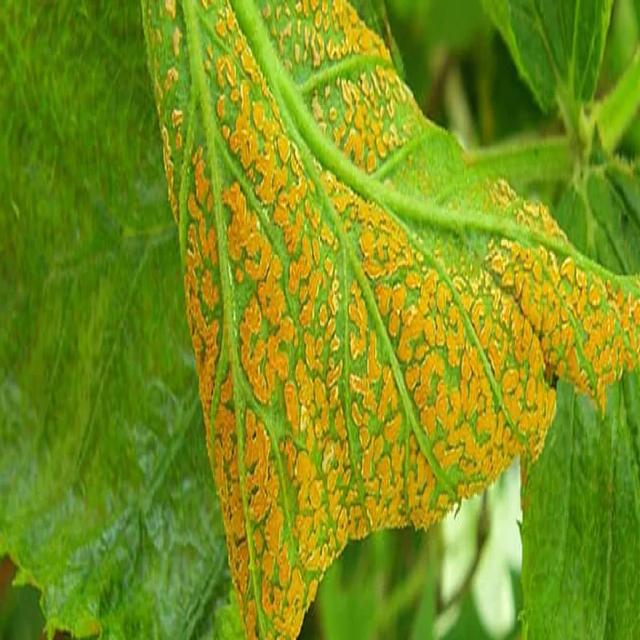leaf_rust: (142, 0, 639, 636)
